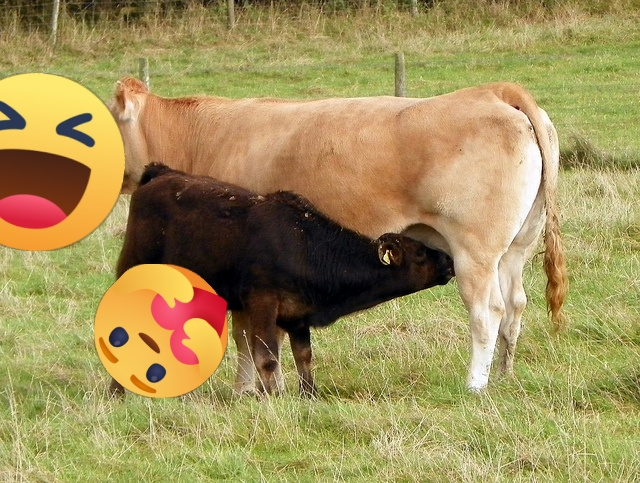care: (94, 264, 228, 398)
haha: (0, 73, 125, 251)
